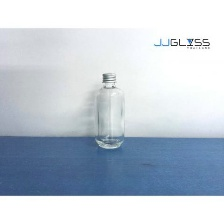bottle: (90, 68, 130, 151)
